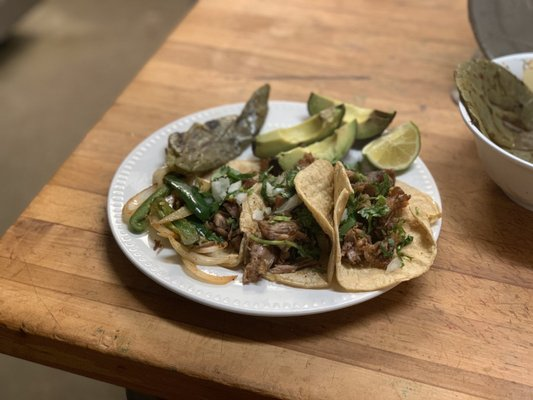sushi: (451, 52, 533, 215)
taco: (361, 122, 421, 173)
